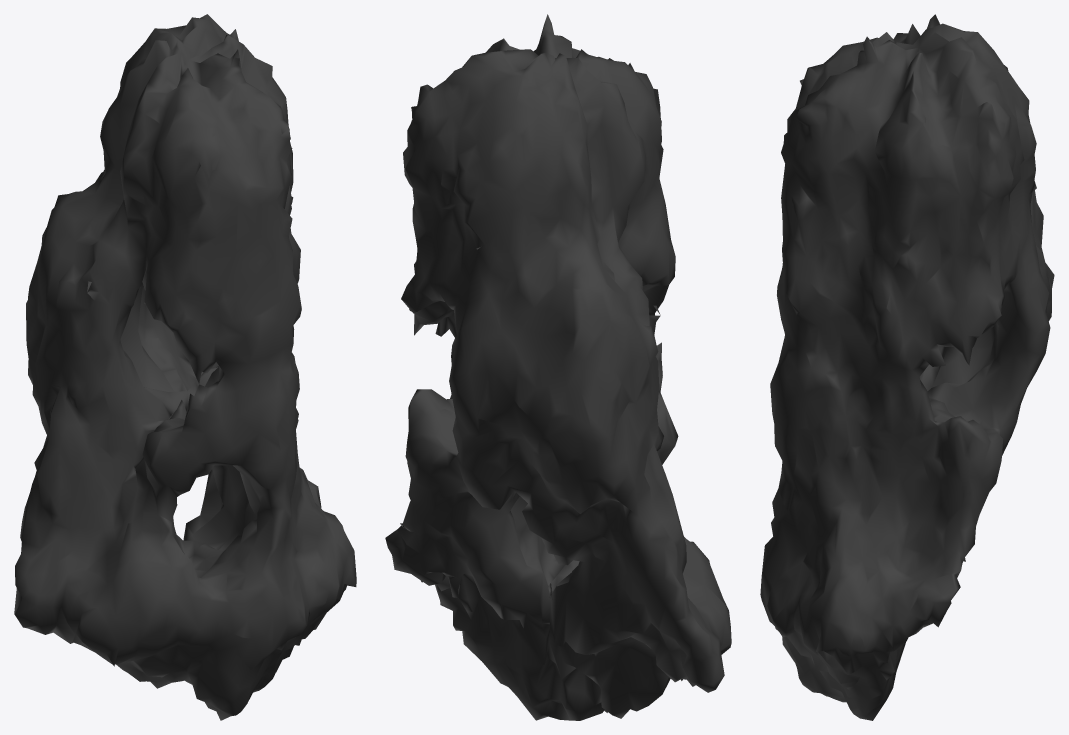
File: cluster-2.glb
3 renders of one model, left to right at view 1: azimuth 30°, elevation 25°; view 2: azimuth 150°, elevation 25°; view 3: azimuth 270°, elevation 25°, orthographic. The views are drawn at different scales.
Parts seen in each view (by area): view 1: geometry_0; view 2: geometry_0; view 3: geometry_0.
Boxes of the visible parts, x1=… form: geometry_0: x1=14, y1=14, x2=356, y2=720; geometry_0: x1=385, y1=14, x2=731, y2=720; geometry_0: x1=760, y1=14, x2=1054, y2=720.
Bounding box in the file's own units: 0.489 × 1 × 0.3917.
1 material, 1 textured.
